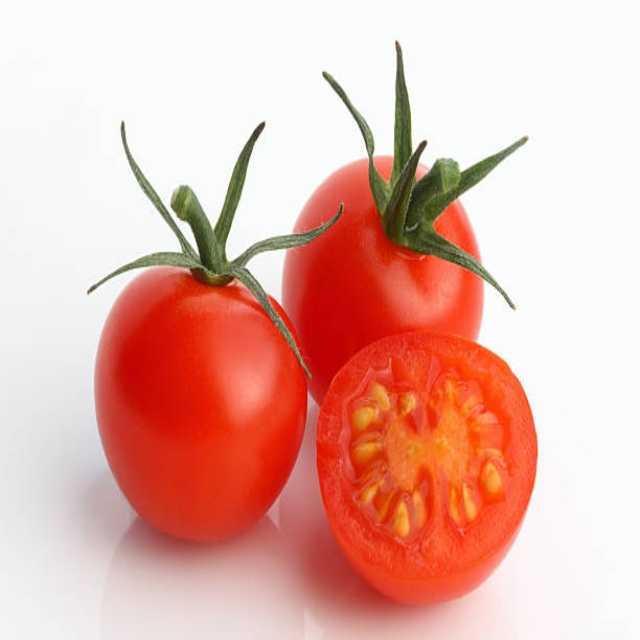tomato: (92, 253, 305, 544), (313, 333, 535, 609), (274, 154, 487, 405)
